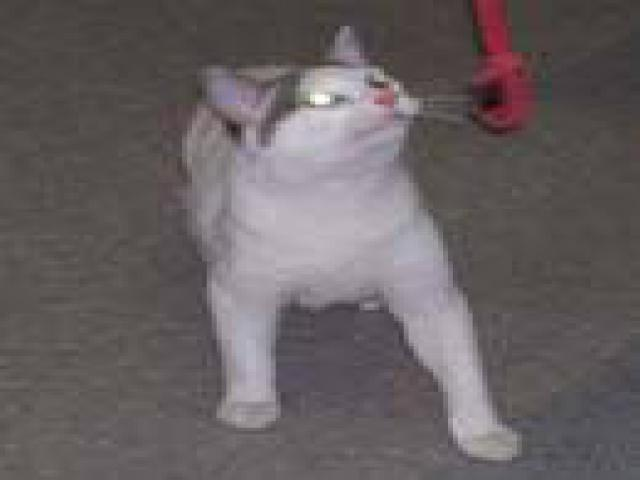cat: (139, 31, 533, 462)
